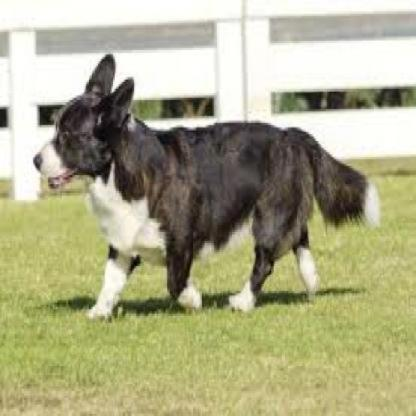dog: (32, 53, 380, 321)
